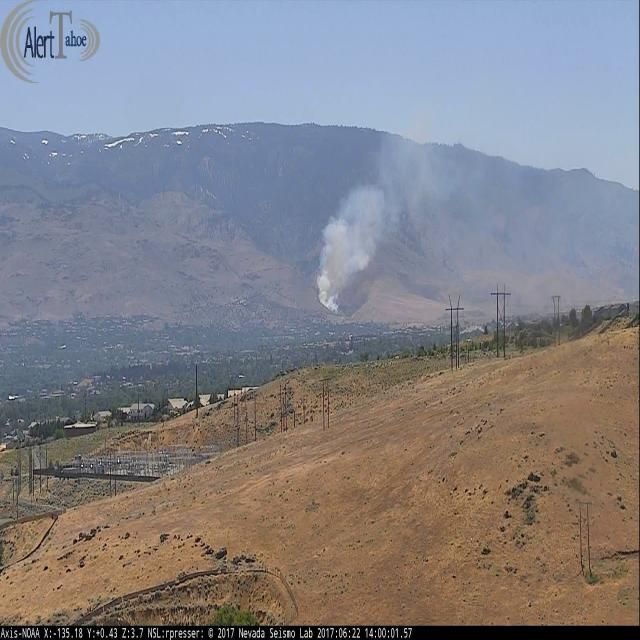smoke: (316, 184, 388, 311)
